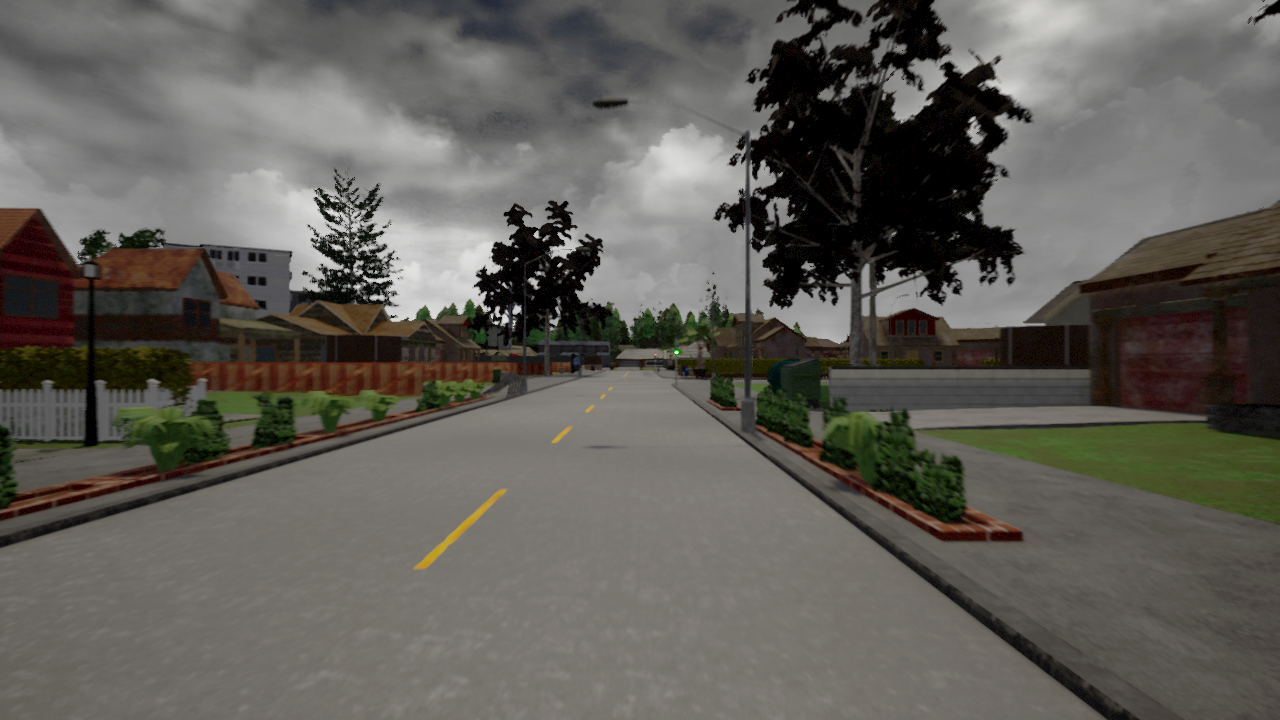green: (673, 340, 679, 355)
